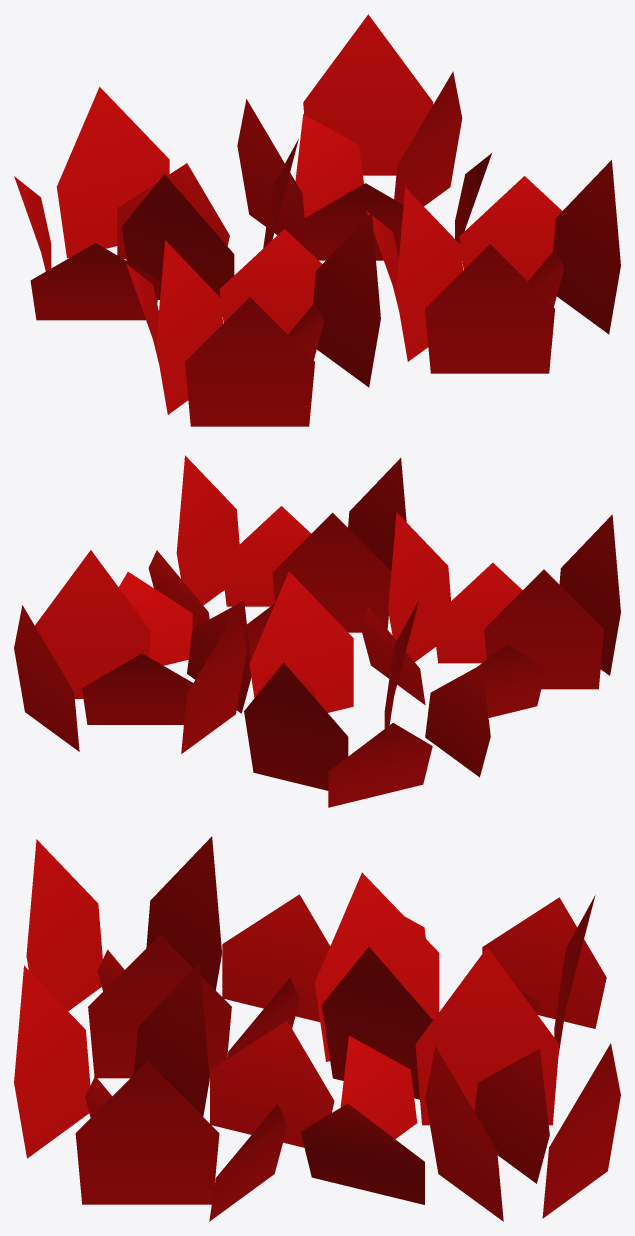
File: Grass.glb
The picture shows the model from 3 angles, top to bottom: view 1: azimuth 30°, elevation 25°; view 2: azimuth 150°, elevation 25°; view 3: azimuth 270°, elevation 25°; orthographic projection. The views are drawn at different scales.
Parts seen in each view (by area): view 1: grass-large; view 2: grass-large; view 3: grass-large.
Part boxes in pixels (x1=…): grass-large: x1=14, y1=14, x2=620, y2=426; grass-large: x1=14, y1=455, x2=620, y2=807; grass-large: x1=14, y1=836, x2=620, y2=1221.
Bounding box in the file's own units: 1.37 × 0.4094 × 1.4.
